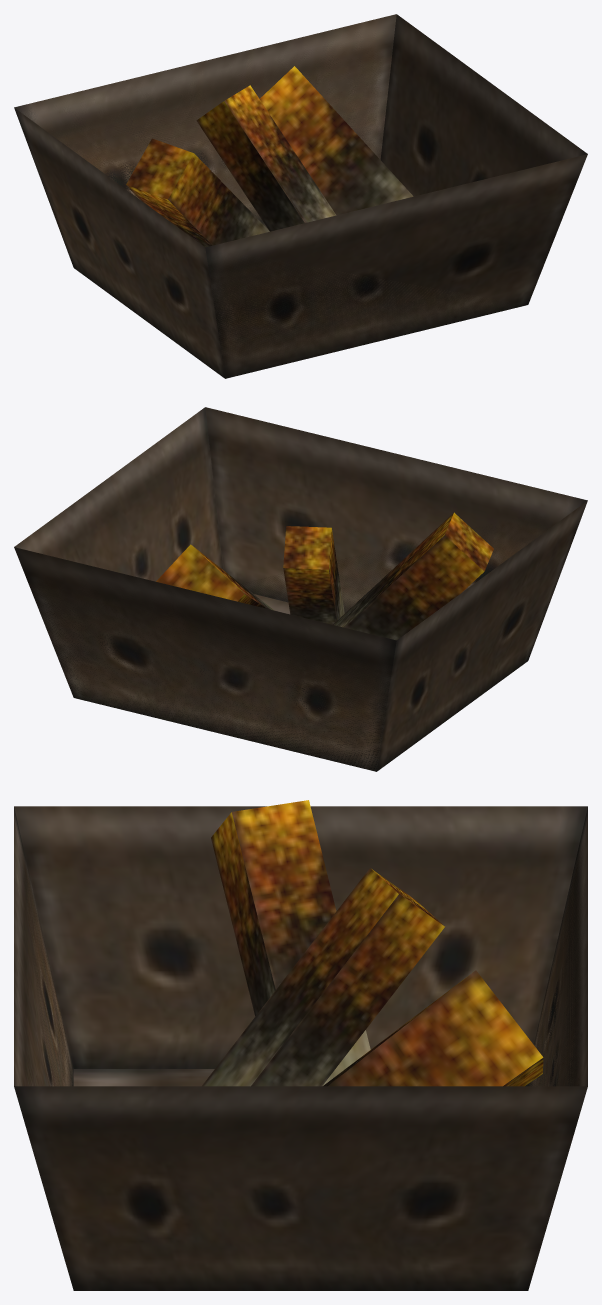
The model's file is shop_tatoo_heater.fbx.
3 renders of one model, top to bottom at view 1: azimuth 30°, elevation 25°; view 2: azimuth 150°, elevation 25°; view 3: azimuth 270°, elevation 25°, orthographic. The views are drawn at different scales.
Visible parts, largest first — view 1: pCube9, pCube4, pCube13, pCube11, pCube12; view 2: pCube9, pCube4, pCube12, pCube11, pCube13; view 3: pCube9, pCube4, pCube11, pCube12, pCube13.
Part boxes in pixels (x1,y1,x2,y2): pCube9: [14, 14, 587, 378]; pCube4: [16, 14, 576, 377]; pCube13: [260, 66, 413, 215]; pCube11: [196, 85, 336, 231]; pCube12: [126, 138, 269, 247]; pCube9: [14, 407, 587, 771]; pCube4: [14, 410, 582, 771]; pCube12: [333, 512, 493, 640]; pCube11: [283, 526, 344, 624]; pCube13: [156, 544, 273, 610]; pCube9: [14, 806, 587, 1290]; pCube4: [14, 808, 587, 1290]; pCube11: [202, 868, 444, 1086]; pCube12: [211, 800, 370, 1085]; pCube13: [323, 970, 543, 1086].
Size of the model in its own units: 214 by 97.36 by 185.
1 material, 1 textured.
